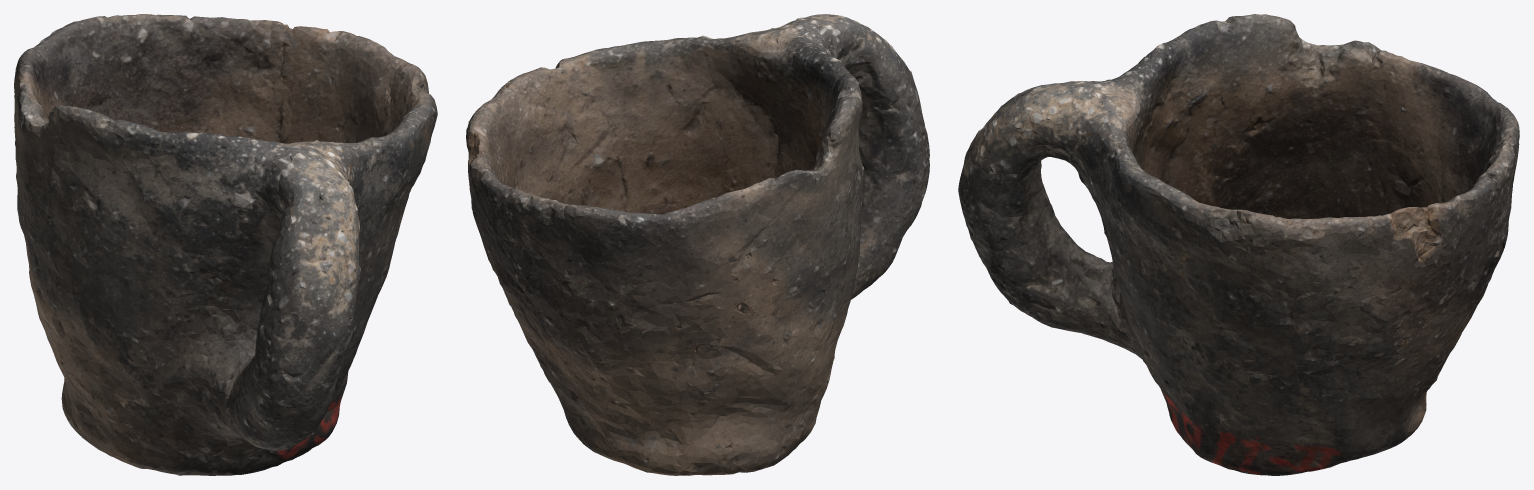
The model's file is VaseKlein_30kTris_2x2kTex.gltf.
3 renders of one model, left to right at view 1: azimuth 30°, elevation 25°; view 2: azimuth 150°, elevation 25°; view 3: azimuth 270°, elevation 25°, orthographic. The views are drawn at different scales.
Visible parts, largest first — view 1: VaseKlein_30KTris_2x2kTex:default1; view 2: VaseKlein_30KTris_2x2kTex:default1; view 3: VaseKlein_30KTris_2x2kTex:default1.
Boxes of the visible parts, left/top/right/bottom form: VaseKlein_30KTris_2x2kTex:default1: left=14, top=14, right=437, bottom=475; VaseKlein_30KTris_2x2kTex:default1: left=466, top=14, right=929, bottom=475; VaseKlein_30KTris_2x2kTex:default1: left=958, top=14, right=1519, bottom=475.
Size of the model in its own units: 0.0513 by 0.0495 by 0.071.
2 materials, 2 textured.
